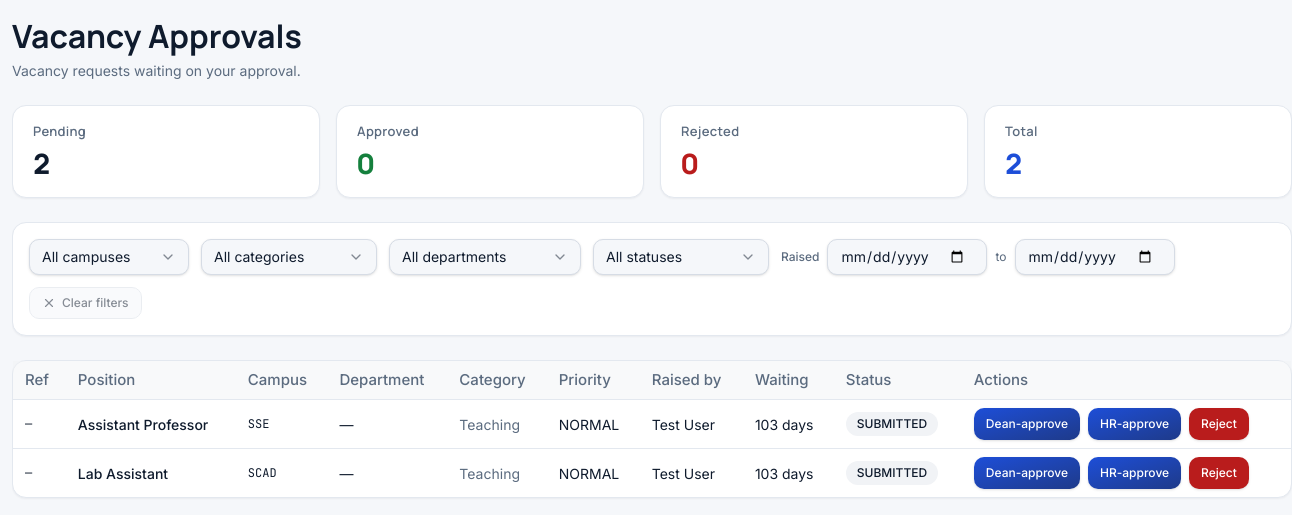
Test: VacancyApprovalsPage › narrows the queue client-side by campus without refetching
Check: the link "Assistant Professor" is shown, box [78,414,208,434]
Check: the link "Lab Assistant" is shown, box [78,462,168,484]
Click the dropdown named "Campus filter". click: (109, 256)
box: [29,238,189,274]
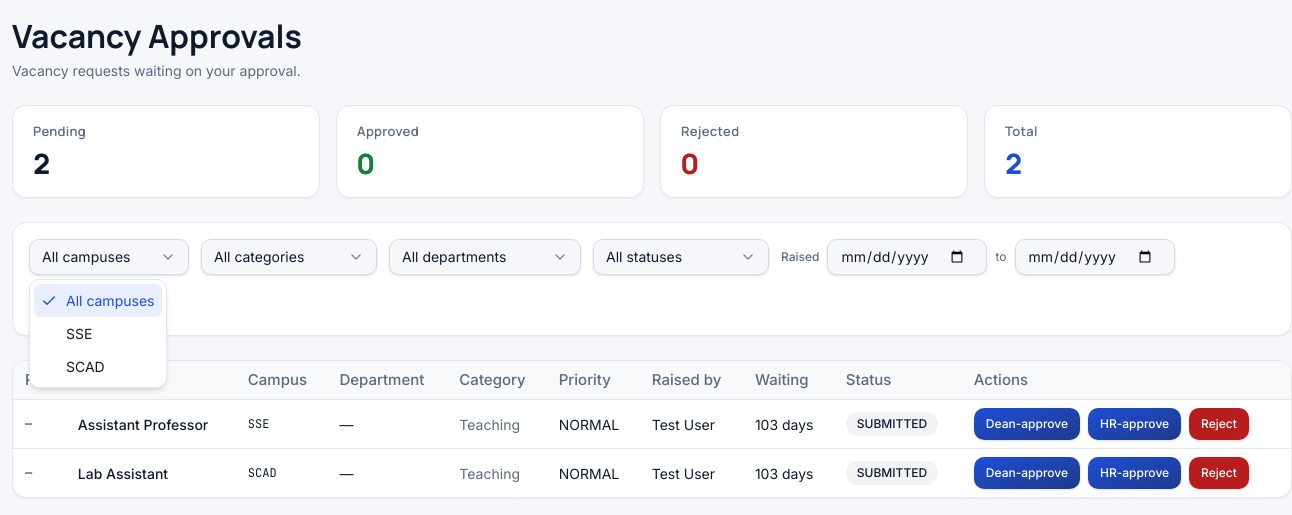
Click the option "SCAD". click: (85, 366)
box: [66,358,105,375]
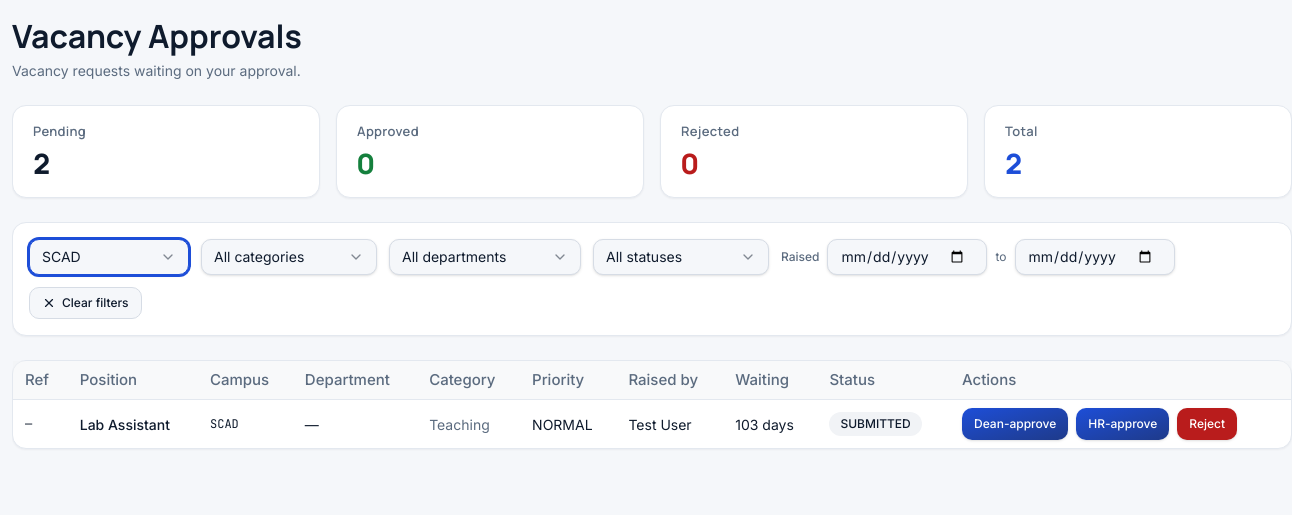
Check: the link "Lab Assistant" is shown, box [80,414,170,434]
Check: the link "Assistant Professor" is gone
